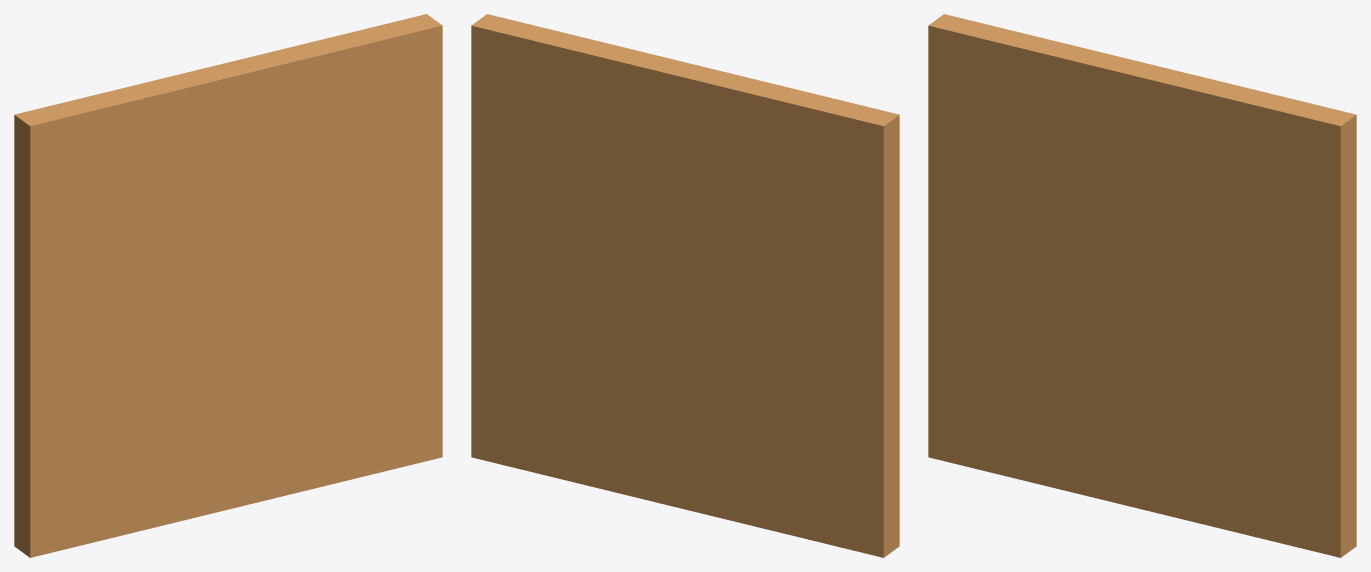
The model's file is Kit_Wood_Wall_Fractured.fbx.
3 renders of one model, left to right at view 1: azimuth 30°, elevation 25°; view 2: azimuth 150°, elevation 25°; view 3: azimuth 330°, elevation 25°, orthographic.
Visible parts, largest first — view 1: Kit_Wood_Wall_frag_03, Kit_Wood_Wall_frag_06, Kit_Wood_Wall_frag_05, Kit_Wood_Wall_frag_01, Kit_Wood_Wall_frag_04, Kit_Wood_Wall_frag_08, Kit_Wood_Wall_frag_09, Kit_Wood_Wall_frag_10, Kit_Wood_Wall_frag_07, Kit_Wood_Wall_frag_11, Kit_Wood_Wall_frag_12, Kit_Wood_Wall_frag_02; view 2: Kit_Wood_Wall_frag_06, Kit_Wood_Wall_frag_03, Kit_Wood_Wall_frag_01, Kit_Wood_Wall_frag_05, Kit_Wood_Wall_frag_04, Kit_Wood_Wall_frag_08, Kit_Wood_Wall_frag_09, Kit_Wood_Wall_frag_10, Kit_Wood_Wall_frag_11, Kit_Wood_Wall_frag_07, Kit_Wood_Wall_frag_12, Kit_Wood_Wall_frag_02; view 3: Kit_Wood_Wall_frag_06, Kit_Wood_Wall_frag_03, Kit_Wood_Wall_frag_05, Kit_Wood_Wall_frag_10, Kit_Wood_Wall_frag_11, Kit_Wood_Wall_frag_04, Kit_Wood_Wall_frag_08, Kit_Wood_Wall_frag_09, Kit_Wood_Wall_frag_12, Kit_Wood_Wall_frag_01, Kit_Wood_Wall_frag_07, Kit_Wood_Wall_frag_02.
Part boxes in pixels (bbox=[...]): Kit_Wood_Wall_frag_03: bbox=[14, 90, 133, 286]; Kit_Wood_Wall_frag_06: bbox=[116, 59, 256, 237]; Kit_Wood_Wall_frag_05: bbox=[102, 231, 240, 387]; Kit_Wood_Wall_frag_01: bbox=[14, 369, 153, 557]; Kit_Wood_Wall_frag_04: bbox=[99, 362, 245, 540]; Kit_Wood_Wall_frag_08: bbox=[233, 200, 367, 363]; Kit_Wood_Wall_frag_09: bbox=[242, 38, 364, 209]; Kit_Wood_Wall_frag_10: bbox=[321, 320, 442, 486]; Kit_Wood_Wall_frag_07: bbox=[243, 325, 363, 505]; Kit_Wood_Wall_frag_11: bbox=[343, 147, 442, 321]; Kit_Wood_Wall_frag_12: bbox=[326, 14, 442, 172]; Kit_Wood_Wall_frag_02: bbox=[14, 272, 126, 425]; Kit_Wood_Wall_frag_06: bbox=[656, 59, 795, 238]; Kit_Wood_Wall_frag_03: bbox=[782, 89, 899, 286]; Kit_Wood_Wall_frag_01: bbox=[760, 368, 899, 557]; Kit_Wood_Wall_frag_05: bbox=[673, 232, 812, 386]; Kit_Wood_Wall_frag_04: bbox=[667, 362, 814, 540]; Kit_Wood_Wall_frag_08: bbox=[545, 201, 680, 364]; Kit_Wood_Wall_frag_09: bbox=[548, 39, 672, 209]; Kit_Wood_Wall_frag_10: bbox=[471, 320, 593, 486]; Kit_Wood_Wall_frag_11: bbox=[471, 147, 570, 321]; Kit_Wood_Wall_frag_07: bbox=[551, 326, 669, 504]; Kit_Wood_Wall_frag_12: bbox=[471, 14, 589, 171]; Kit_Wood_Wall_frag_02: bbox=[788, 272, 899, 422]; Kit_Wood_Wall_frag_06: bbox=[1030, 38, 1171, 229]; Kit_Wood_Wall_frag_03: bbox=[928, 14, 1044, 206]; Kit_Wood_Wall_frag_05: bbox=[1000, 186, 1138, 363]; Kit_Wood_Wall_frag_10: bbox=[1219, 386, 1356, 557]; Kit_Wood_Wall_frag_11: bbox=[1241, 235, 1356, 420]; Kit_Wood_Wall_frag_04: bbox=[998, 347, 1143, 509]; Kit_Wood_Wall_frag_08: bbox=[1131, 217, 1266, 386]; Kit_Wood_Wall_frag_09: bbox=[1151, 69, 1262, 252]; Kit_Wood_Wall_frag_12: bbox=[1238, 90, 1356, 247]; Kit_Wood_Wall_frag_01: bbox=[928, 315, 1051, 473]; Kit_Wood_Wall_frag_07: bbox=[1141, 367, 1261, 528]; Kit_Wood_Wall_frag_02: bbox=[928, 186, 1024, 324].
Size of what is drawn, in the model's own units: 3 by 3 by 0.2.
Materials: 2 (2 with a texture image).
